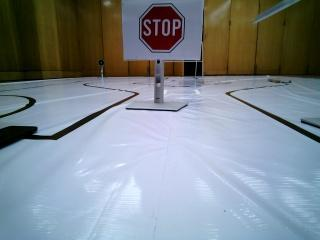stop: (125, 4, 197, 61)
